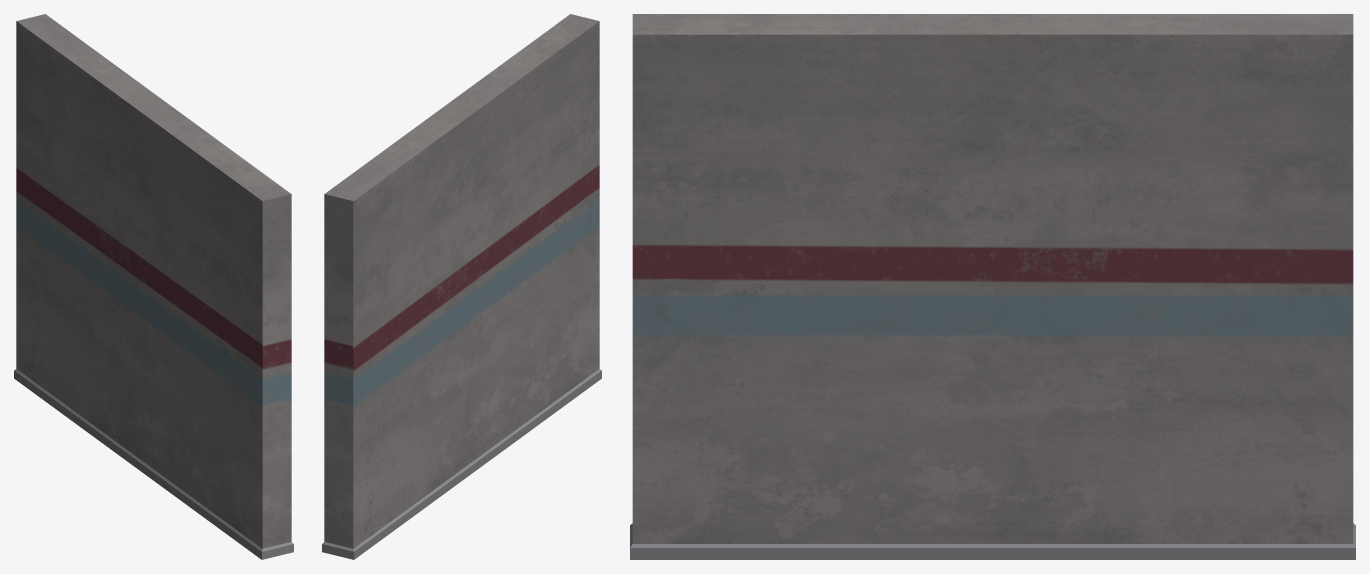
File: Wall.001.fbx
3 renders of one model, left to right at view 1: azimuth 30°, elevation 25°; view 2: azimuth 150°, elevation 25°; view 3: azimuth 270°, elevation 25°, orthographic. The views are drawn at different scales.
Parts seen in each view (by area): view 1: Wall.001; view 2: Wall.001; view 3: Wall.001.
Part boxes in pixels (x1=…): Wall.001: x1=14, y1=14, x2=293, y2=559; Wall.001: x1=322, y1=14, x2=601, y2=559; Wall.001: x1=630, y1=14, x2=1355, y2=559.
Size of the model in its own units: 56.1 by 600 by 753.
